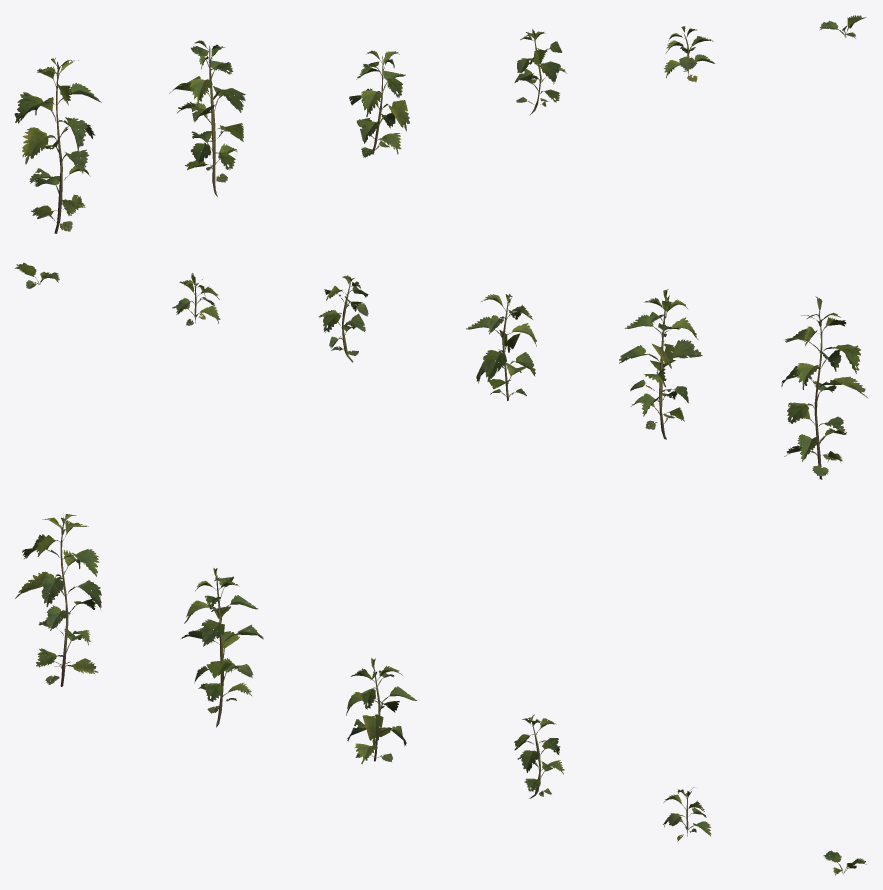
Rendered from nettle_plant_lod1.glb.
The picture shows the model from 3 angles, top to bottom: view 1: azimuth 30°, elevation 25°; view 2: azimuth 150°, elevation 25°; view 3: azimuth 330°, elevation 25°; orthographic projection.
Visible parts, largest first — view 1: nettle_plant_tall_a_LOD0, nettle_plant_tall_b_LOD0, nettle_plant_medium_a_LOD0, nettle_plant_medium_b_LOD0, nettle_plant_small_a_LOD0; view 2: nettle_plant_tall_a_LOD0, nettle_plant_tall_b_LOD0, nettle_plant_medium_a_LOD0, nettle_plant_medium_b_LOD0, nettle_plant_small_a_LOD0; view 3: nettle_plant_tall_a_LOD0, nettle_plant_tall_b_LOD0, nettle_plant_medium_a_LOD0, nettle_plant_medium_b_LOD0, nettle_plant_small_a_LOD0.
Part boxes in pixels (x1,y1,x2,y2): nettle_plant_tall_a_LOD0: (14, 58, 101, 233); nettle_plant_tall_b_LOD0: (169, 40, 245, 196); nettle_plant_medium_a_LOD0: (349, 50, 409, 157); nettle_plant_medium_b_LOD0: (514, 29, 566, 115); nettle_plant_small_a_LOD0: (664, 26, 715, 82); nettle_plant_tall_a_LOD0: (781, 296, 868, 479); nettle_plant_tall_b_LOD0: (619, 289, 702, 439); nettle_plant_medium_a_LOD0: (466, 294, 536, 400); nettle_plant_medium_b_LOD0: (318, 275, 368, 362); nettle_plant_small_a_LOD0: (172, 273, 220, 325); nettle_plant_tall_a_LOD0: (15, 513, 101, 686); nettle_plant_tall_b_LOD0: (181, 568, 263, 727); nettle_plant_medium_a_LOD0: (346, 658, 417, 763); nettle_plant_medium_b_LOD0: (514, 714, 564, 798); nettle_plant_small_a_LOD0: (663, 787, 711, 841).
Bounding box in the file's own units: 1.08 × 0.2181 × 0.0947.
Materials: 1 (1 with a texture image).
